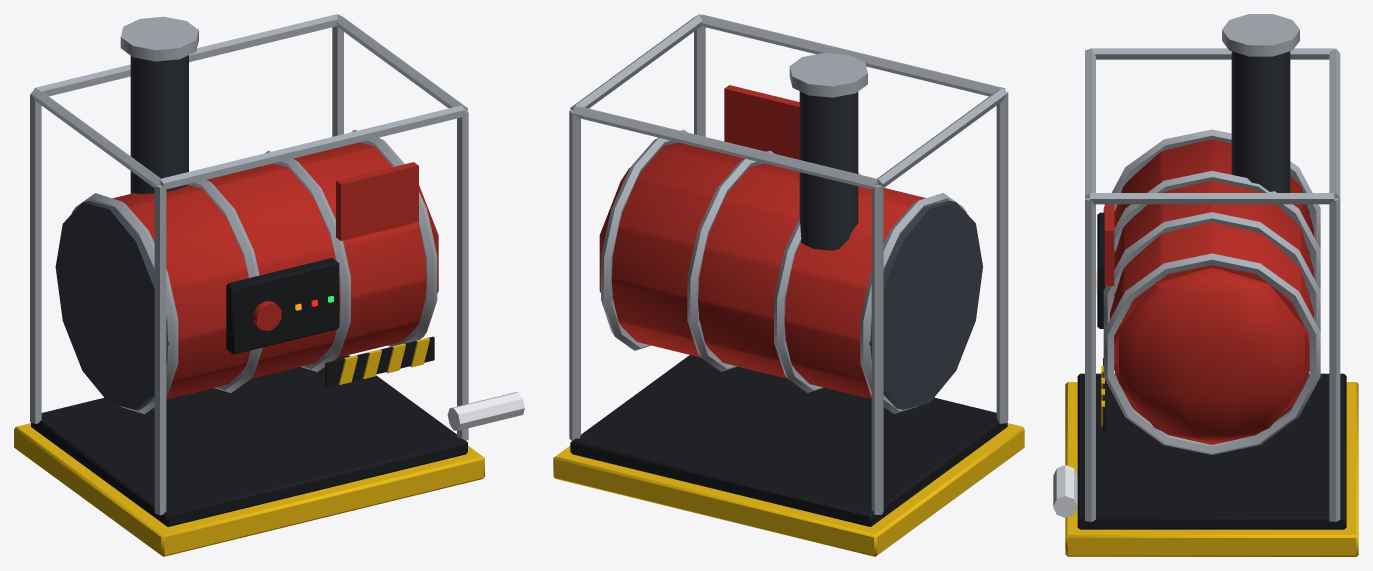
File: reactor_emergency_reactor.glb
The picture shows the model from 3 angles, left to right: view 1: azimuth 30°, elevation 25°; view 2: azimuth 150°, elevation 25°; view 3: azimuth 270°, elevation 25°; orthographic projection. The views are drawn at different scales.
Parts seen in each view (by area): view 1: reactor_emergency_reactor; view 2: reactor_emergency_reactor; view 3: reactor_emergency_reactor.
Part boxes in pixels (box(x1,y1,x2,y2)): reactor_emergency_reactor: box(14, 14, 524, 556); reactor_emergency_reactor: box(553, 14, 1024, 556); reactor_emergency_reactor: box(1053, 14, 1358, 556).
Size of the model in its own units: 1.65 by 1.89 by 1.25.
